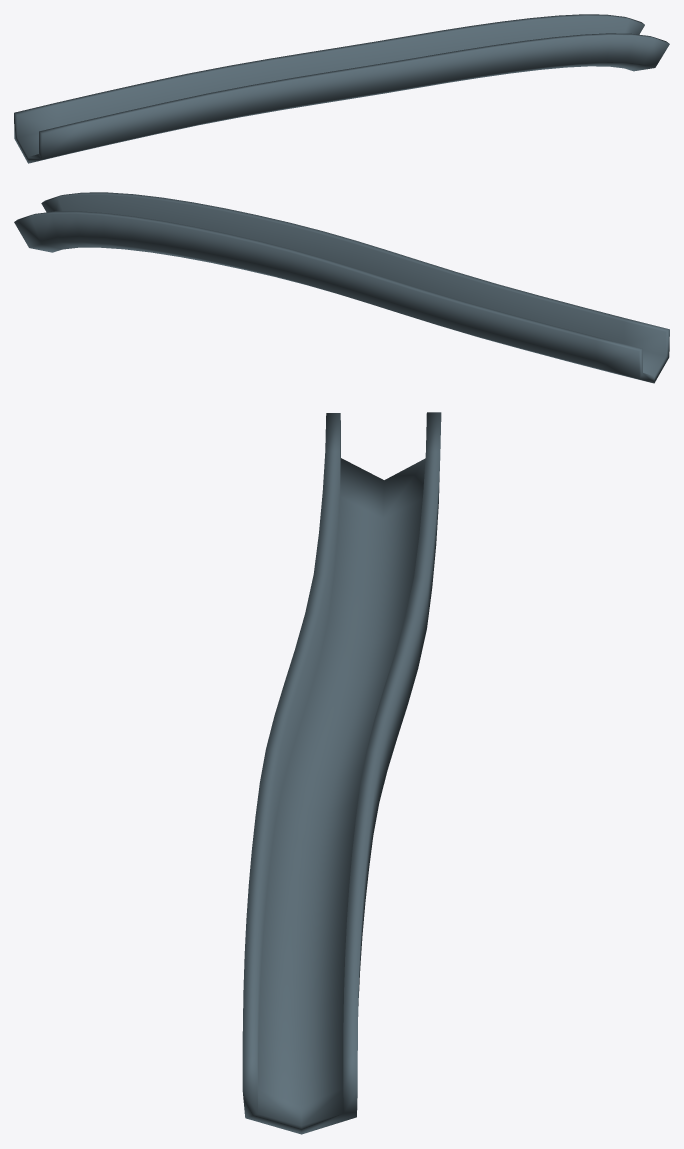
The model's file is ButtomEggWay.fbx.
The picture shows the model from 3 angles, top to bottom: view 1: azimuth 30°, elevation 25°; view 2: azimuth 150°, elevation 25°; view 3: azimuth 270°, elevation 25°; orthographic projection. The views are drawn at different scales.
Parts seen in each view (by area): view 1: ButtomEggWay; view 2: ButtomEggWay; view 3: ButtomEggWay.
Boxes of the visible parts, <box> form: ButtomEggWay: <box>14,14,669,163</box>; ButtomEggWay: <box>14,192,669,383</box>; ButtomEggWay: <box>242,412,441,1134</box>.
Size of the model in its own units: 2.31 by 0.2758 by 0.328.
